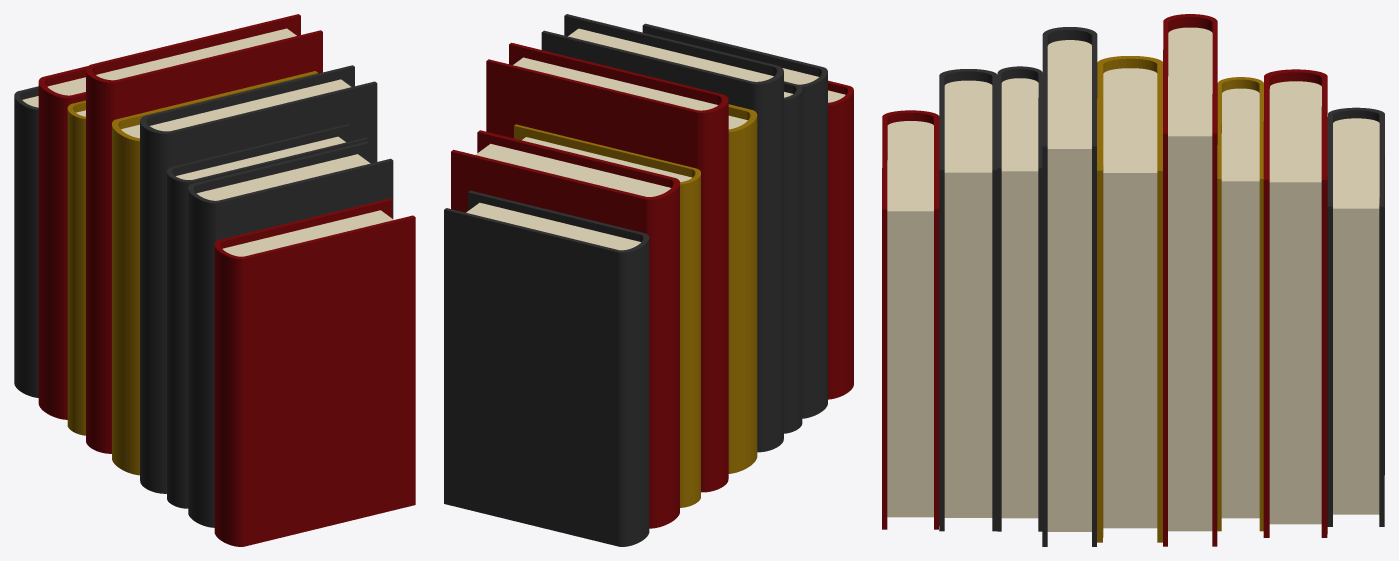
File: stack_of_books.glb
3 views of the same model, side by side, from view 1: azimuth 30°, elevation 25°; view 2: azimuth 150°, elevation 25°; view 3: azimuth 270°, elevation 25° (orthographic). The views are drawn at different scales.
Parts seen in each view (by area): view 1: cover.007_9, cover.001_3, cover.002_4, cover.008_10, pages_0, cover_2, cover.005_7, cover.004_6, cover.006_8, cover.003_5; view 2: cover.006_8, cover.002_4, cover.005_7, cover.001_3, pages_0, cover_2, cover.008_10, cover.003_5, cover.007_9, cover.004_6; view 3: pages_0, cover.005_7, cover_2, cover.002_4, cover.001_3, cover.008_10, cover.006_8, cover.007_9, cover.004_6, cover.003_5.
Boxes of the visible parts, bbox=[...] form: cover.007_9: bbox=[214, 198, 415, 546]; cover.001_3: bbox=[140, 65, 377, 493]; cover.002_4: bbox=[86, 14, 322, 453]; cover.008_10: bbox=[188, 141, 393, 527]; pages_0: bbox=[22, 28, 393, 256]; cover_2: bbox=[112, 71, 317, 475]; cover.005_7: bbox=[38, 66, 87, 419]; cover.004_6: bbox=[167, 124, 368, 508]; cover.006_8: bbox=[14, 86, 38, 397]; cover.003_5: bbox=[67, 100, 85, 435]; cover.006_8: bbox=[444, 190, 649, 546]; cover.002_4: bbox=[486, 42, 728, 492]; cover.005_7: bbox=[451, 130, 679, 528]; cover.001_3: bbox=[541, 14, 783, 452]; pages_0: bbox=[466, 28, 845, 250]; cover_2: bbox=[728, 104, 757, 473]; cover.008_10: bbox=[642, 23, 827, 418]; cover.003_5: bbox=[514, 124, 700, 507]; cover.007_9: bbox=[828, 80, 853, 399]; cover.004_6: bbox=[784, 81, 802, 433]; pages_0: bbox=[887, 27, 1379, 531]; cover.005_7: bbox=[1263, 69, 1327, 537]; cover_2: bbox=[1097, 56, 1162, 542]; cover.002_4: bbox=[1163, 14, 1217, 546]; cover.001_3: bbox=[1042, 27, 1097, 546]; cover.008_10: bbox=[939, 69, 997, 531]; cover.006_8: bbox=[1327, 107, 1384, 526]; cover.007_9: bbox=[882, 110, 939, 529]; cover.004_6: bbox=[997, 66, 1042, 531]; cover.003_5: bbox=[1217, 77, 1263, 531].
Size of the model in its own units: 2.08 by 3.36 by 3.7.
